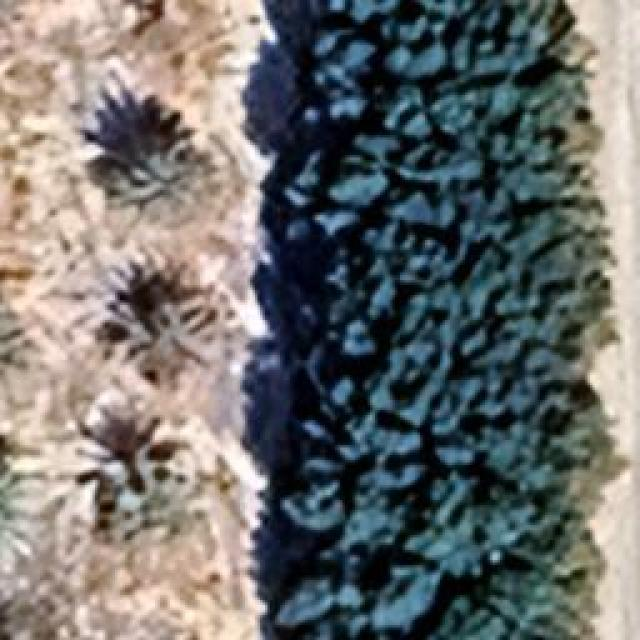PalmTree: (106, 431, 192, 539), (105, 298, 205, 388), (110, 137, 200, 220), (10, 26, 26, 344), (0, 450, 28, 565)
